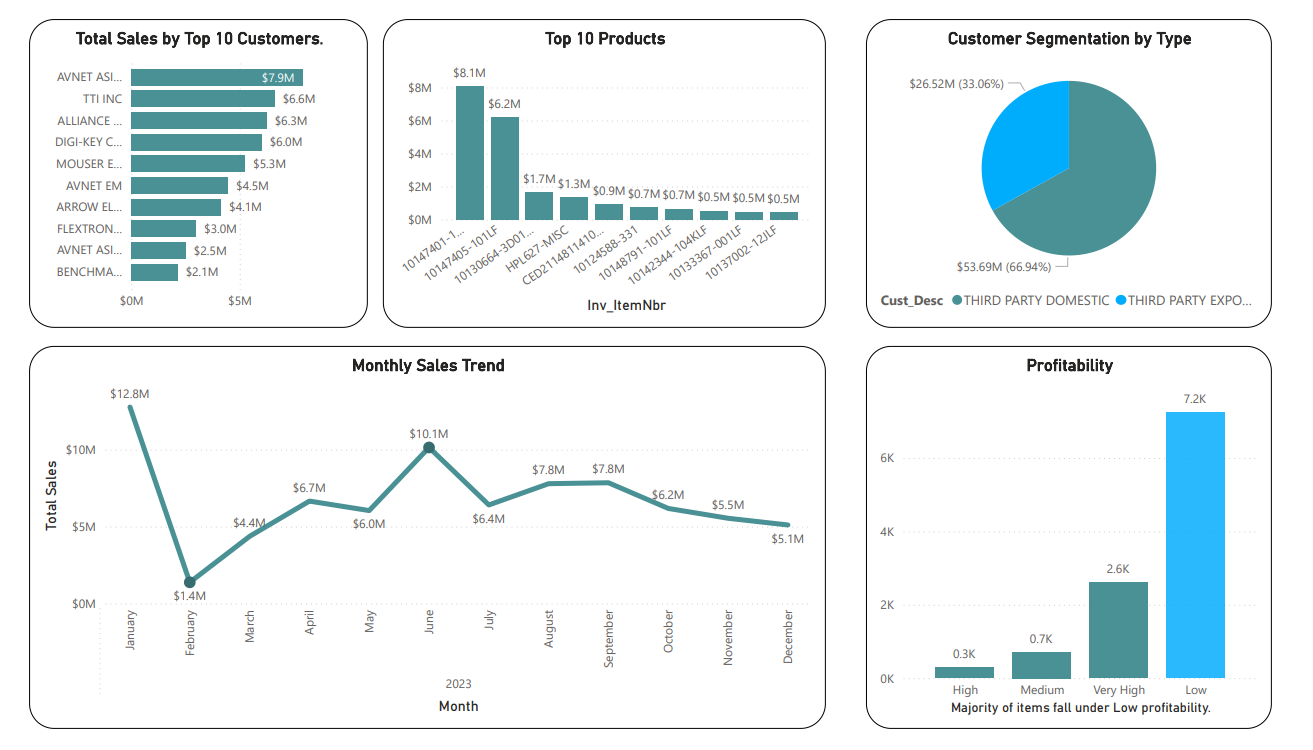

Layout of this report page (visuals, bound fields, positions):
{"tool":"powerbi","page":{"name":"Page 1","canvas":[1280,720],"ordinal":1},"visuals":[{"type":"clusteredBarChart","title":"Total Sales by Top 10 Customers.","fields":{"Category":["amphenol customer_master.Custmast_Name"],"Y":["_Measures.Total Sales"]},"box":[10,85.7,338.6,308.6],"z":0},{"type":"clusteredColumnChart","title":"Top 10 Products by Revenue","fields":{"Y":["_Measures.Total Sales"],"Category":["amphenol invoice_sheet.Inv_ItemNbr"]},"box":[700,407.1,548.6,312.9],"z":1000},{"type":"pieChart","title":"Customer Segmentation by Type","fields":{"Y":["_Measures.Total Sales"],"Series":["amphenol cust_type.Cust_Desc"]},"box":[842.9,85.7,405.7,308.6],"z":2000},{"type":"columnChart","title":"Profitability","fields":{"Category":["amphenol invoice_sheet.ProfitabilityCategory"],"Y":["Count(amphenol invoice_sheet.Inv_ItemNbr)"]},"box":[362.9,87.1,465.7,307.1],"z":3000},{"type":"tableEx","title":"Detailed Sales and Profitability Report by Inventory Number","fields":{"Values":["amphenol invoice_sheet.Inv_ItemNbr","_Measures.Total Sales","_Measures.Total Cost","_Measures.Profitability Total"]},"box":[10,407.1,664.3,312.9],"z":6000},{"type":"shape","box":[10,12.9,17.1,61.4],"z":7000},{"type":"textbox","box":[40,22.9,417.1,51.4],"z":8000}]}

Visuals, with their boxes in screenshot pixels (x1, y1, x2, y2), scaled from the page's 1280x720 canvas onto the 1313x750 screenshot:
"Total Sales by Top 10 Customers." clusteredBarChart: pyautogui.locateOnScreen(10, 89, 358, 411)
"Top 10 Products by Revenue" clusteredColumnChart: pyautogui.locateOnScreen(718, 424, 1281, 749)
"Customer Segmentation by Type" pieChart: pyautogui.locateOnScreen(865, 89, 1281, 411)
"Profitability" columnChart: pyautogui.locateOnScreen(372, 91, 850, 411)
"Detailed Sales and Profitability Report by Inventory Number" tableEx: pyautogui.locateOnScreen(10, 424, 692, 749)
shape: pyautogui.locateOnScreen(10, 13, 28, 77)
textbox: pyautogui.locateOnScreen(41, 24, 469, 77)
